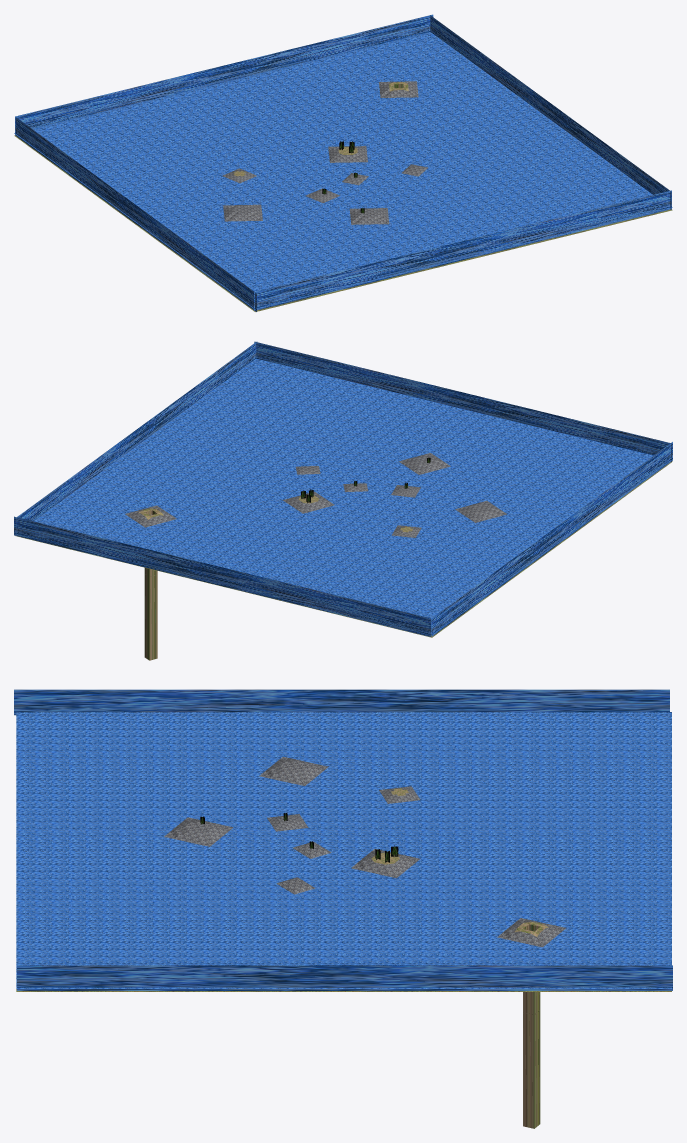
The model's file is stoneland.glb.
3 views of the same model, one above another, from view 1: azimuth 30°, elevation 25°; view 2: azimuth 150°, elevation 25°; view 3: azimuth 270°, elevation 25° (orthographic). The views are drawn at different scales.
Visible parts, largest first — view 1: Plane.029, Plane, Plane.010, Plane.009, Plane.011, Plane.013, Plane.007, Plane.008, Plane.002, Plane.003; view 2: Plane.029, Plane.010, Plane, Plane.009, Plane.011, Plane.022, Plane.013, Plane.007, Plane.008, Plane.003, Plane.002; view 3: Plane.029, Plane.011, Plane.009, Plane.022, Plane.007, Plane.008, Plane.003, Plane.002, Plane.013.
Boxes of the visible parts, bbox=[...] form: Plane.029: bbox=[14, 32, 672, 309]; Plane: bbox=[254, 190, 671, 310]; Plane.010: bbox=[15, 14, 433, 135]; Plane.009: bbox=[15, 117, 256, 311]; Plane.011: bbox=[430, 15, 671, 209]; Plane.013: bbox=[14, 135, 672, 311]; Plane.007: bbox=[223, 204, 262, 221]; Plane.008: bbox=[349, 208, 389, 224]; Plane.002: bbox=[328, 146, 367, 162]; Plane.003: bbox=[379, 81, 418, 97]; Plane.029: bbox=[17, 358, 672, 635]; Plane.010: bbox=[14, 516, 431, 636]; Plane: bbox=[254, 341, 671, 461]; Plane.009: bbox=[432, 442, 672, 636]; Plane.011: bbox=[16, 341, 257, 535]; Plane.022: bbox=[138, 508, 163, 660]; Plane.013: bbox=[16, 461, 672, 637]; Plane.007: bbox=[455, 501, 506, 522]; Plane.008: bbox=[399, 453, 450, 474]; Plane.003: bbox=[125, 505, 176, 527]; Plane.002: bbox=[283, 491, 334, 513]; Plane.029: bbox=[16, 712, 671, 988]; Plane.011: bbox=[17, 965, 672, 990]; Plane.009: bbox=[14, 689, 669, 715]; Plane.022: bbox=[514, 922, 548, 1128]; Plane.007: bbox=[259, 756, 328, 785]; Plane.008: bbox=[164, 817, 233, 846]; Plane.003: bbox=[497, 918, 566, 947]; Plane.002: bbox=[351, 849, 420, 878]; Plane.013: bbox=[16, 989, 671, 991].
Size of the model in its own units: 711 by 257 by 712.
48 materials, 48 textured.
